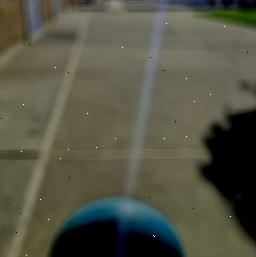algae: (48, 196, 187, 257)
